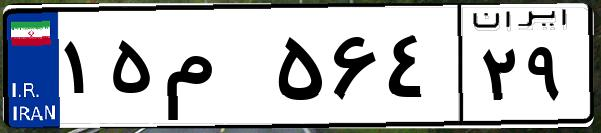1: (57, 26, 110, 100)
2: (475, 38, 525, 113)
4: (385, 28, 445, 110)
5: (270, 28, 330, 110), (110, 28, 158, 98)
6: (330, 28, 385, 110)
9: (525, 38, 570, 115)
م: (158, 20, 270, 120)
